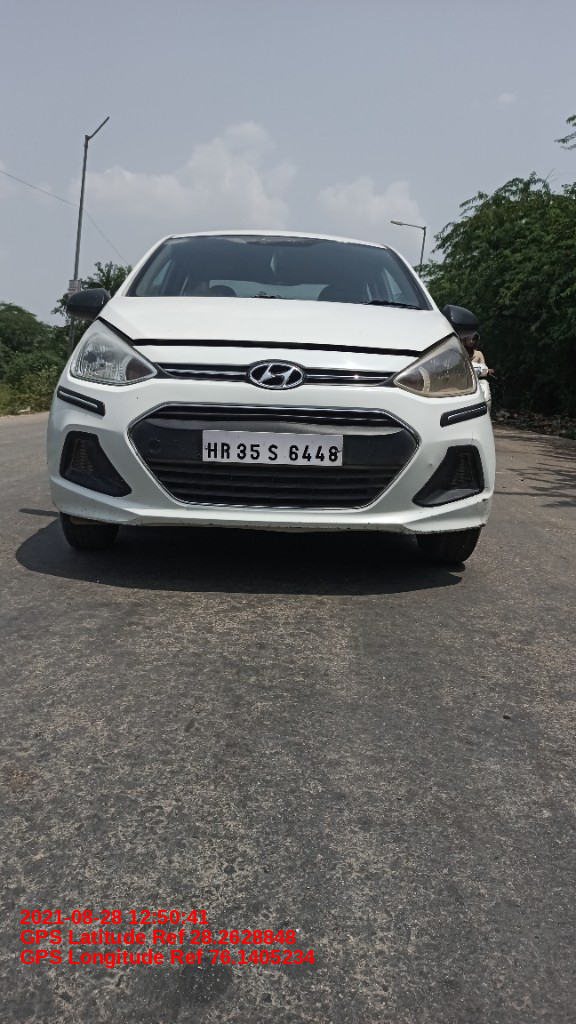Pressed: (423, 457, 438, 473)
Scratched: (183, 518, 389, 532), (474, 485, 496, 529), (465, 431, 479, 445), (133, 392, 143, 405)
